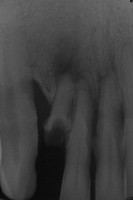Furcation Involvement: (54, 32, 82, 84)
